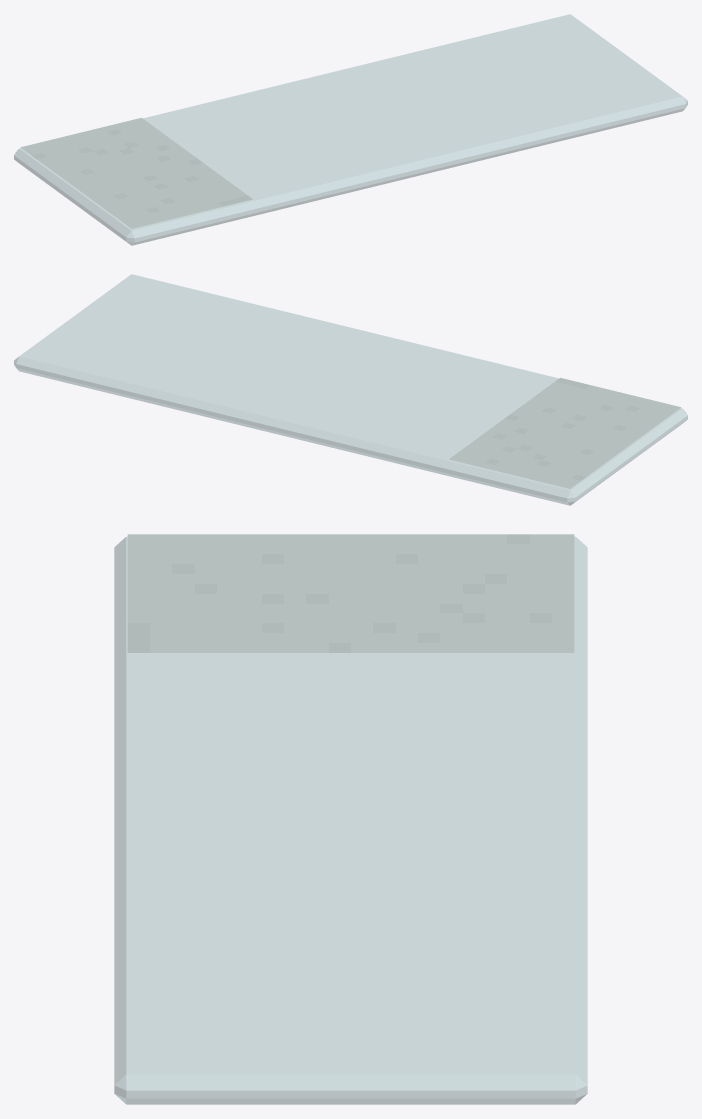
File: microscope_slide.glb
3 views of the same model, one above another, from view 1: azimuth 30°, elevation 25°; view 2: azimuth 150°, elevation 25°; view 3: azimuth 270°, elevation 25° (orthographic). The views are drawn at different scales.
Parts seen in each view (by area): view 1: block_thin glass slide, block_frosted handling strip; view 2: block_thin glass slide, block_frosted handling strip; view 3: block_thin glass slide, block_frosted handling strip.
Part boxes in pixels (bbox=[...]): block_thin glass slide: bbox=[14, 14, 687, 245]; block_frosted handling strip: bbox=[20, 117, 252, 228]; block_thin glass slide: bbox=[14, 274, 687, 505]; block_frosted handling strip: bbox=[449, 377, 681, 488]; block_thin glass slide: bbox=[114, 536, 587, 1104]; block_frosted handling strip: bbox=[127, 534, 574, 652].
Bounding box in the file's own units: 0.076 × 0.00212 × 0.0277.
Materials: 2 (2 with a texture image).
